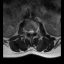CCS_normal: (30, 28, 32, 36)
LFS_normal: (34, 28, 36, 34)
LLS_normal: (32, 28, 34, 35)
RFS_normal: (26, 28, 28, 35)
RLS_normal: (28, 28, 30, 35)
